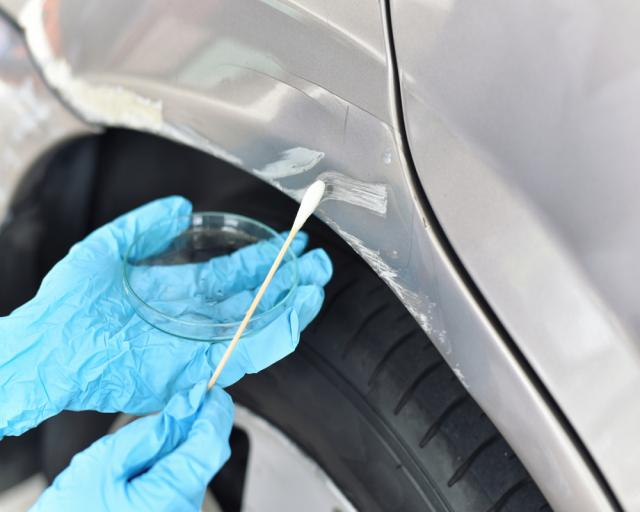scratch: (257, 141, 471, 394)
